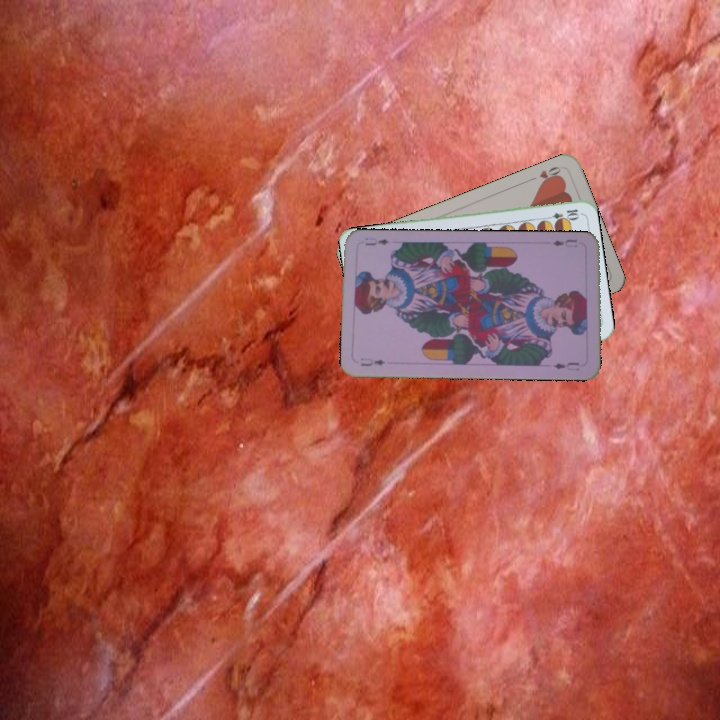E10: (541, 205, 582, 223)
EU: (548, 235, 580, 250), (357, 354, 387, 369)
HO: (535, 162, 564, 187)
